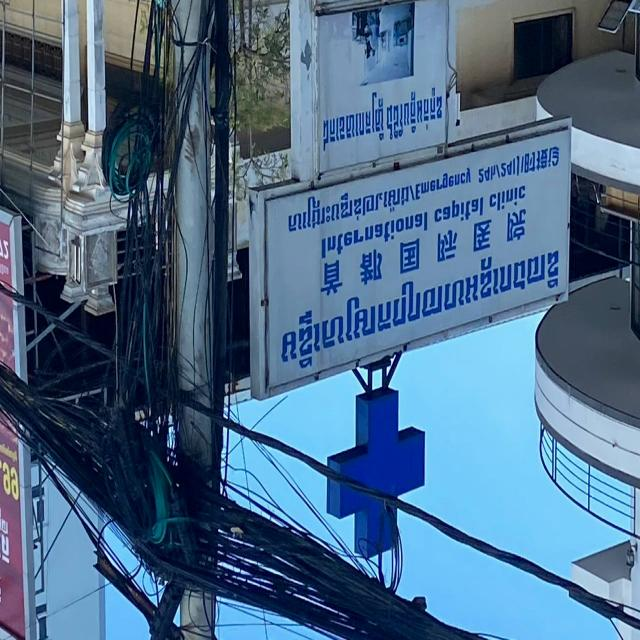1: (319, 71, 451, 166)
677: (475, 155, 514, 192)
Yolov11_80vkh: (276, 232, 566, 382), (280, 163, 418, 247)
